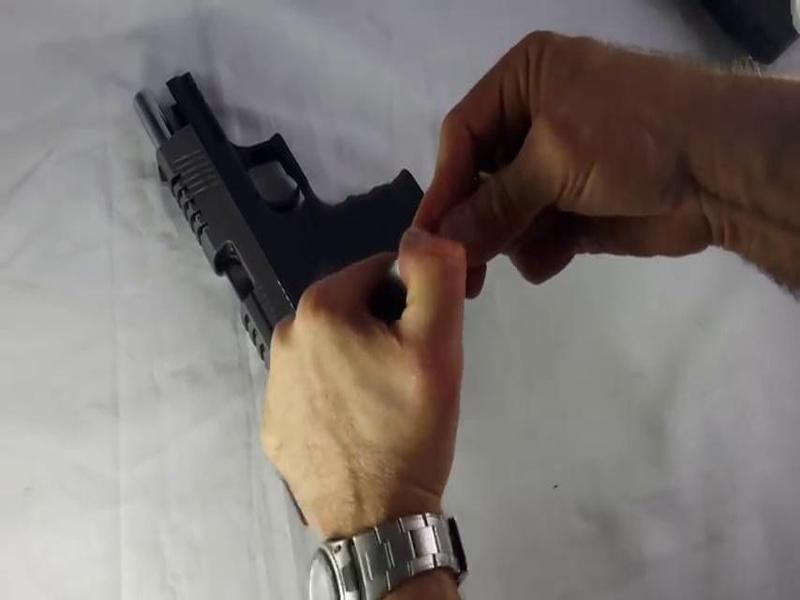Pistola: (128, 61, 432, 368)
